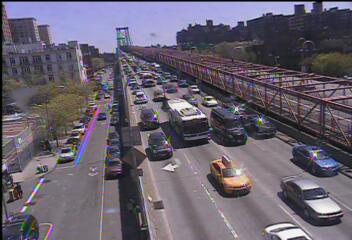neg: (25, 163, 43, 186), (82, 138, 97, 158), (71, 159, 84, 177)
pos: (37, 134, 52, 154), (15, 179, 30, 199), (1, 182, 15, 201)
